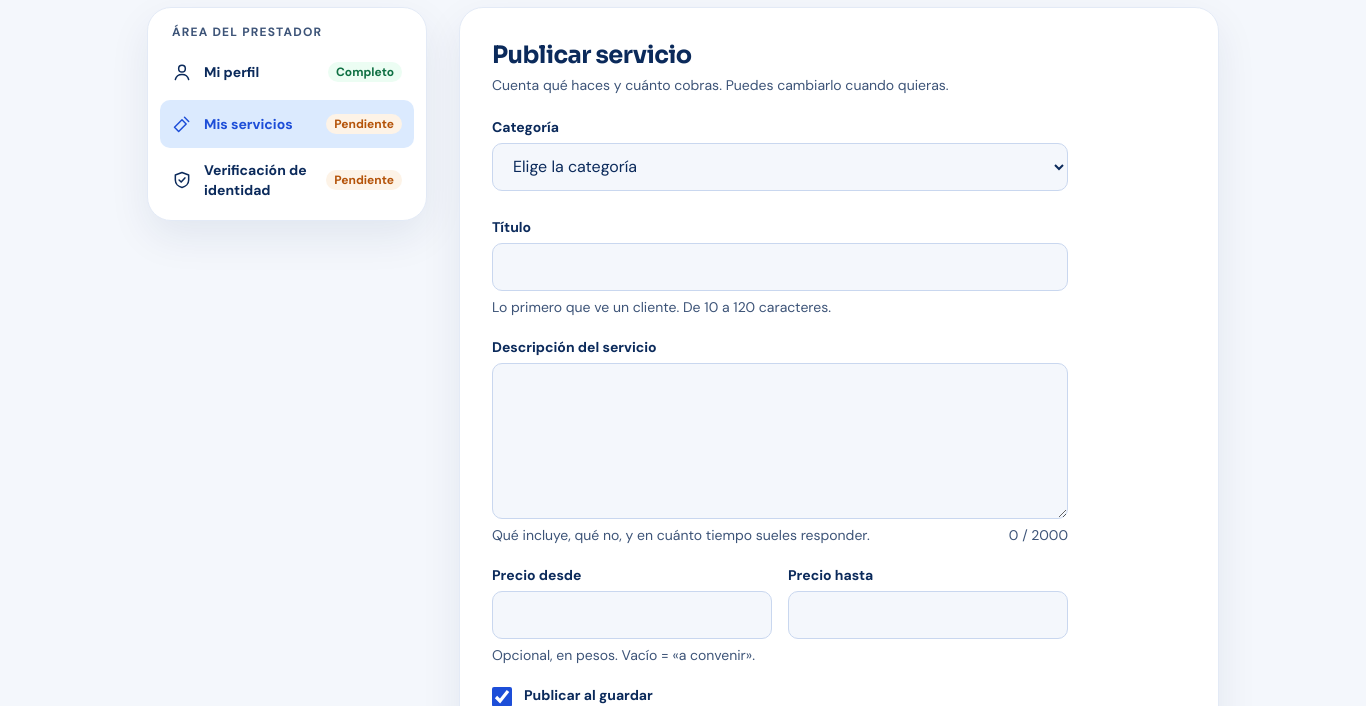
Test: Comunas de atención y servicios del prestador › valida antes de enviar: título corto y precio hasta menor que desde
Check: the heading "Publicar servicio" is shown, box 492,40 -> 692,70
Select "Gasfitería" in the dropdown labelled "Categoría" at (780, 167), box 492,143 -> 1068,191
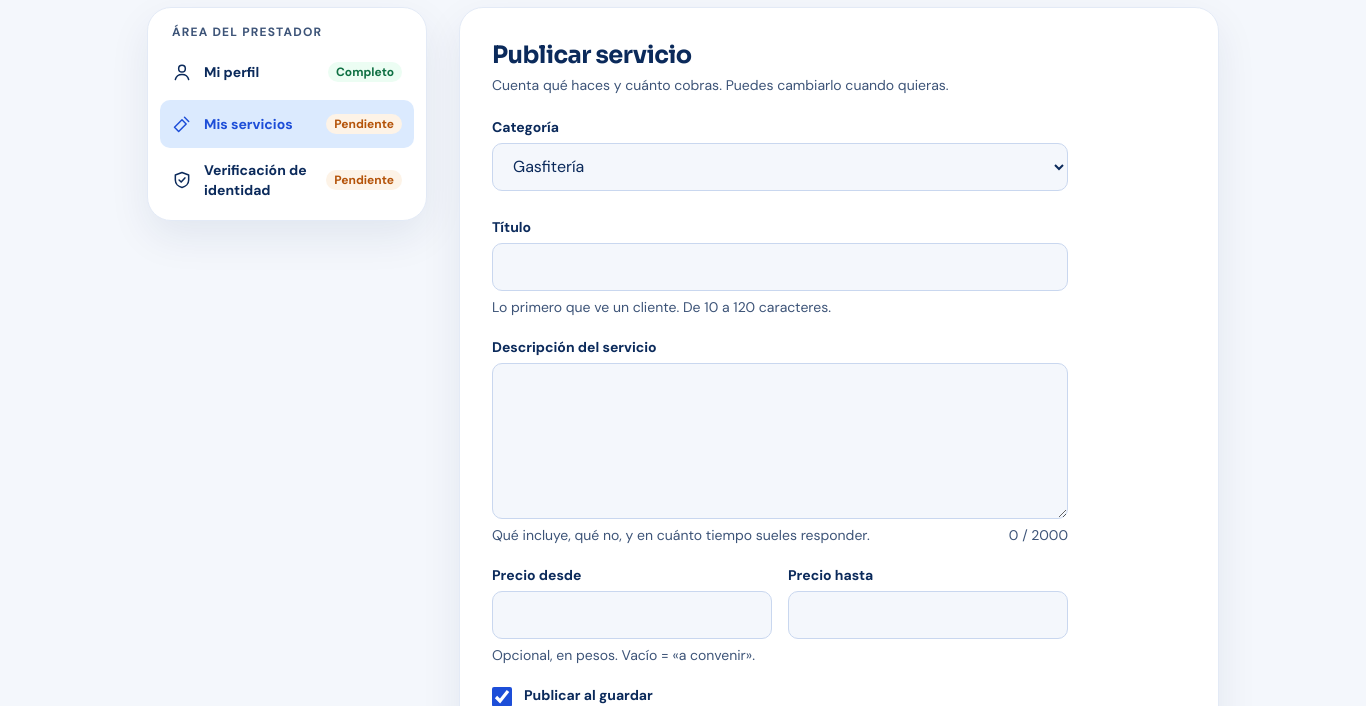
Type "Gasfíter" into the field labelled "Título" at (780, 267), box 492,243 -> 1068,291
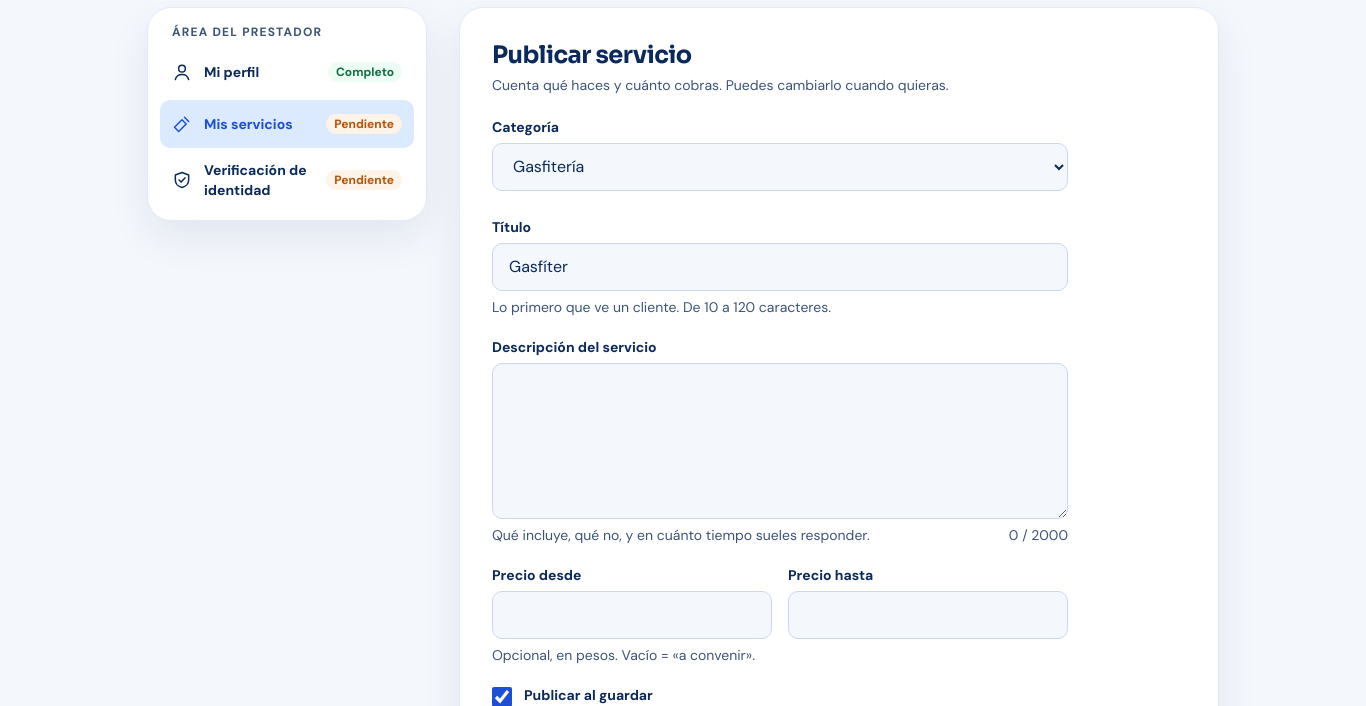
Type "60000" into the number field labelled "Precio desde" at (632, 615), box 492,591 -> 772,639
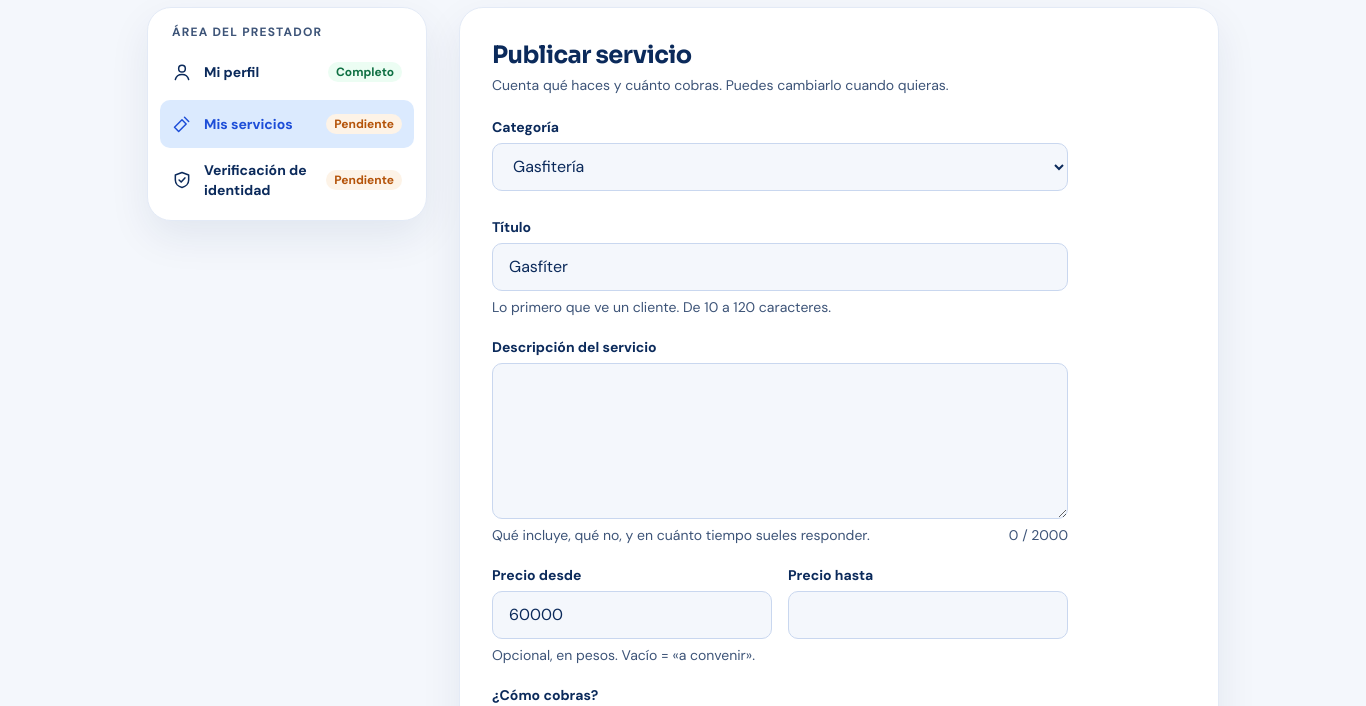
Type "25000" into the number field labelled "Precio hasta" at (928, 615), box 788,591 -> 1068,639
(page scrolled)
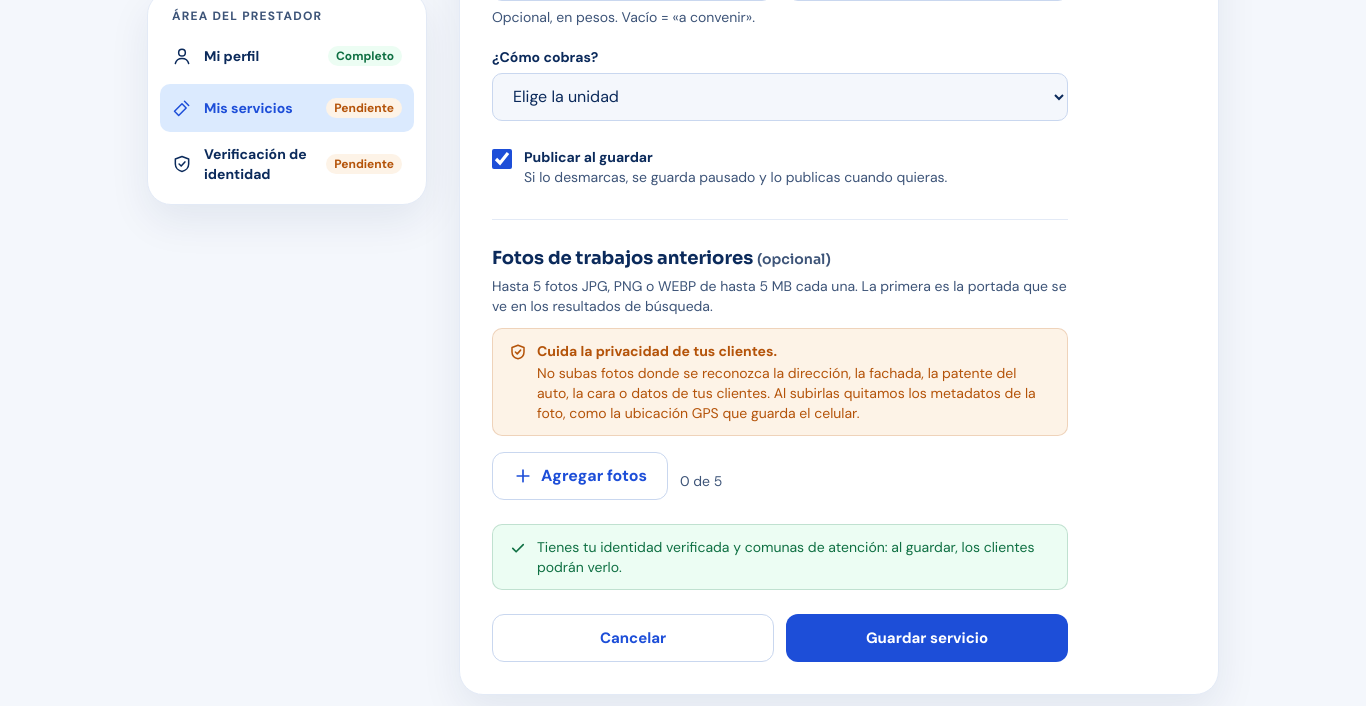
Click the button "Guardar servicio" at (927, 638), box 786,614 -> 1068,662
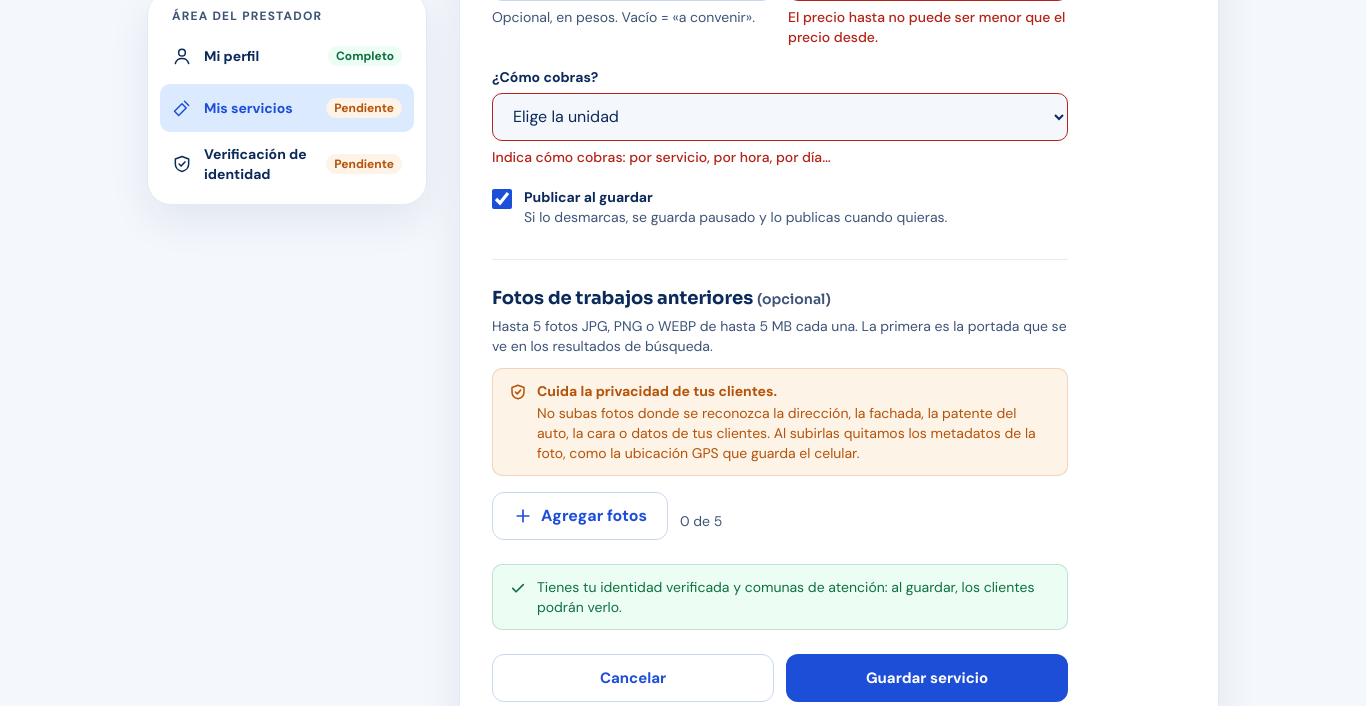
Check: the text "El precio hasta no puede ser menor que el precio desde." is shown, box 788,7 -> 1068,47
